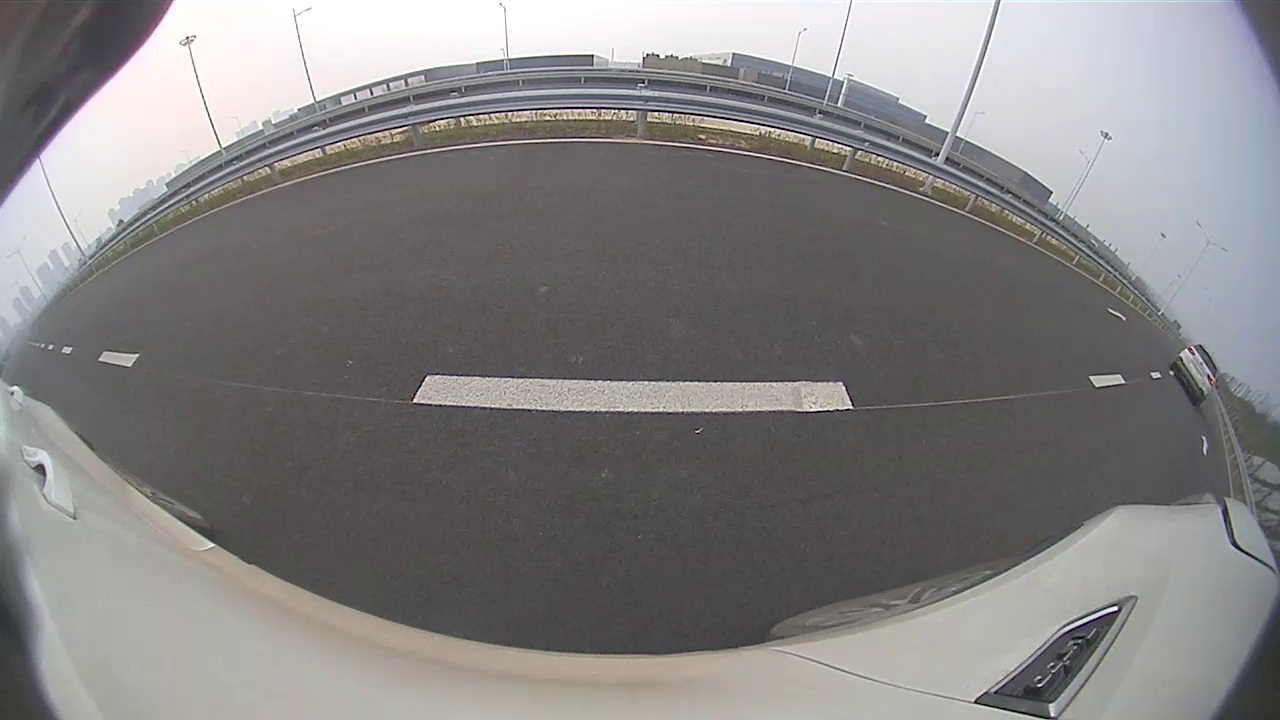car: (619, 153, 664, 190)
